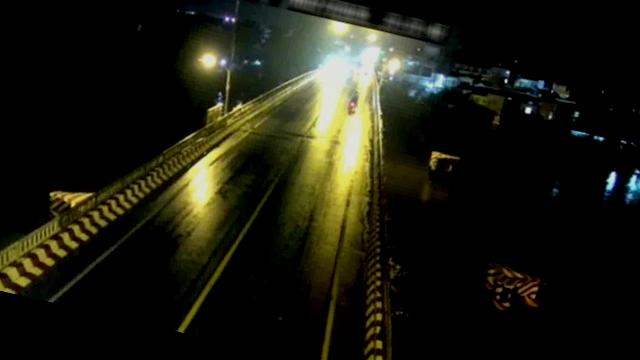Bike: (347, 90, 360, 112)
